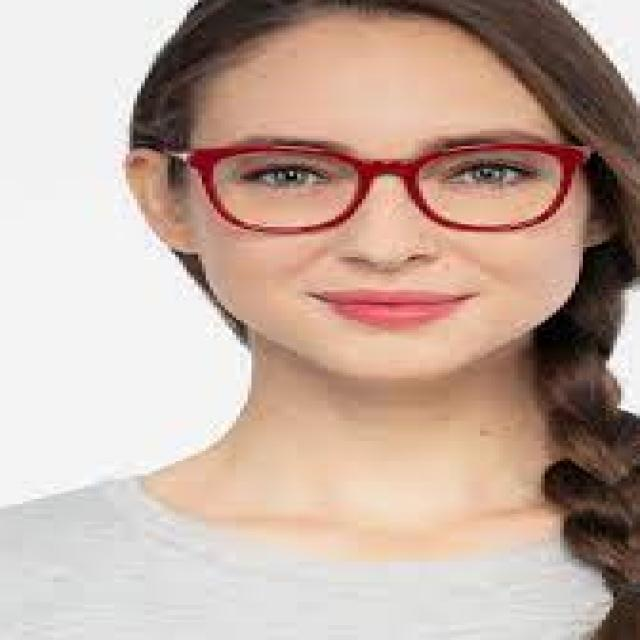Glasses: (168, 138, 594, 236)
